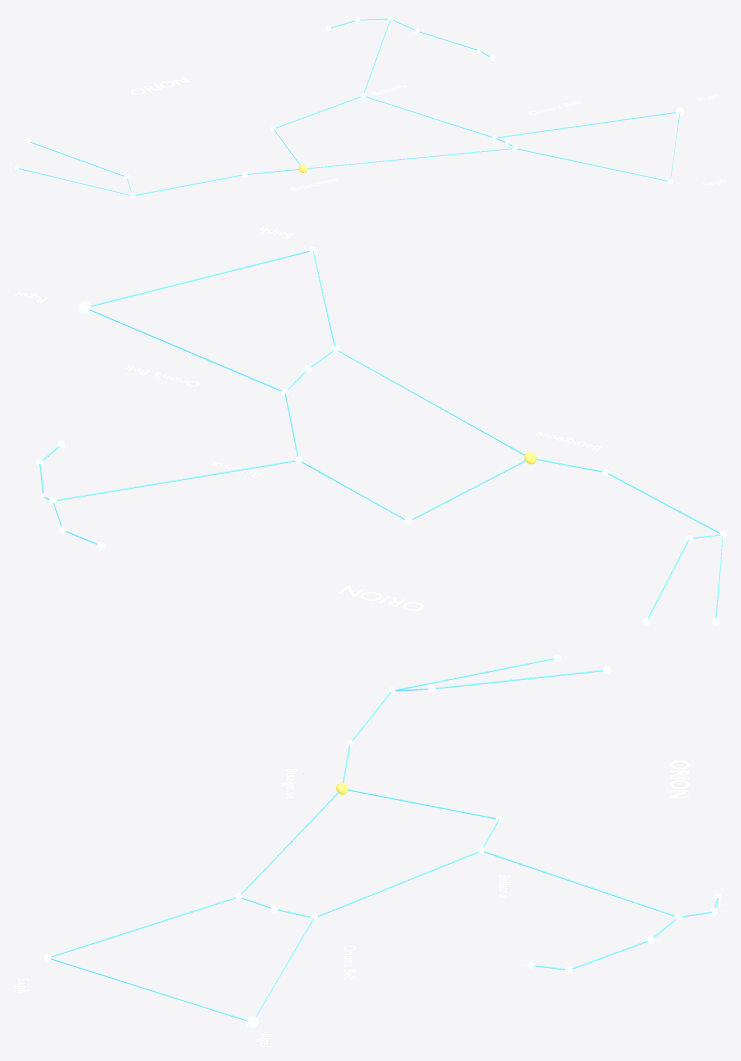
Rendered from orion.glb.
3 views of the same model, one above another, from view 1: azimuth 30°, elevation 25°; view 2: azimuth 150°, elevation 25°; view 3: azimuth 270°, elevation 25° (orthographic). The views are drawn at different scales.
Visible parts, largest first — view 1: Orion connections 1, Orion connections 2, Orion connections 0; view 2: Orion connections 1, Orion connections 2; view 3: Orion connections 1, Orion connections 2, Orion connections 0.
Boxes of the visible parts, left/top/right/bottom form: Orion connections 1: left=135, top=96, right=512, bottom=195; Orion connections 2: left=497, top=112, right=679, bottom=181; Orion connections 0: left=18, top=142, right=131, bottom=195; Orion connections 1: left=285, top=350, right=719, bottom=533; Orion connections 2: left=89, top=250, right=335, bottom=391; Orion connections 1: left=241, top=691, right=499, bottom=917; Orion connections 2: left=50, top=897, right=313, bottom=1020; Orion connections 0: left=395, top=658, right=603, bottom=691.
Size of the model in its own units: 0.2 by 0.00742 by 0.1514.
